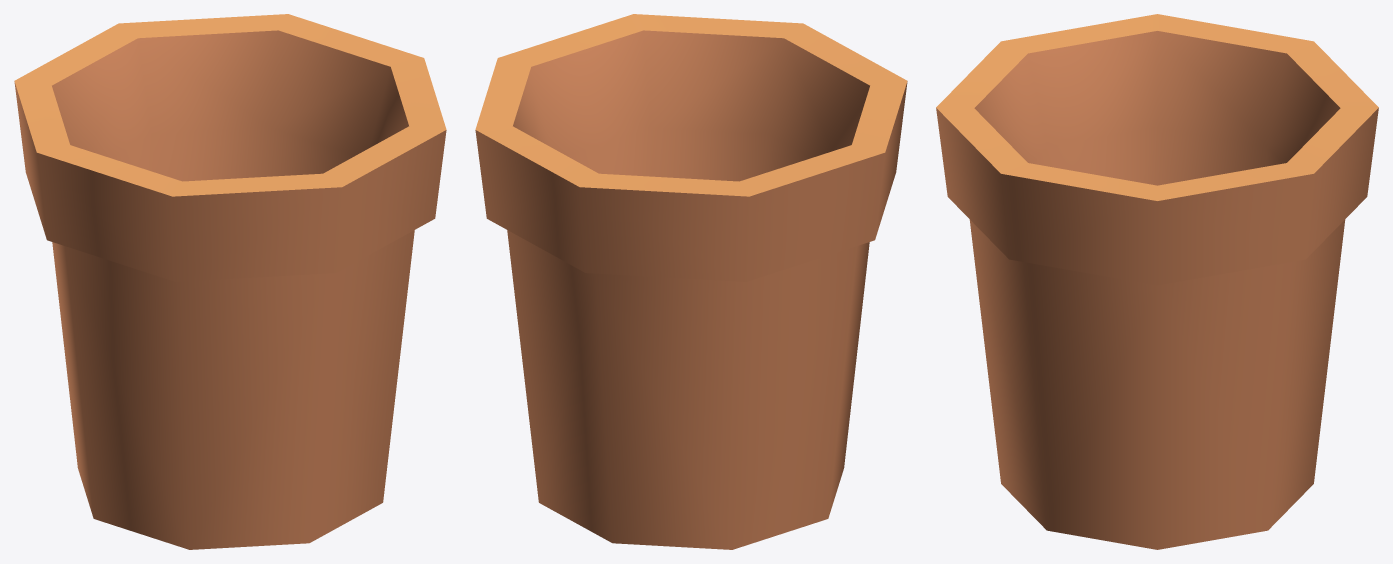
The model's file is SM_Prop_Pot_01.obj.
The picture shows the model from 3 angles, left to right: view 1: azimuth 30°, elevation 25°; view 2: azimuth 150°, elevation 25°; view 3: azimuth 270°, elevation 25°; orthographic projection.
Visible parts, largest first — view 1: SM_Prop_Pot_01_Mat_SwatchOverlay_PolygonTown_01_Inst; view 2: SM_Prop_Pot_01_Mat_SwatchOverlay_PolygonTown_01_Inst; view 3: SM_Prop_Pot_01_Mat_SwatchOverlay_PolygonTown_01_Inst.
Part boxes in pixels (bbox=[...]): SM_Prop_Pot_01_Mat_SwatchOverlay_PolygonTown_01_Inst: bbox=[14, 14, 446, 549]; SM_Prop_Pot_01_Mat_SwatchOverlay_PolygonTown_01_Inst: bbox=[475, 14, 907, 549]; SM_Prop_Pot_01_Mat_SwatchOverlay_PolygonTown_01_Inst: bbox=[936, 14, 1378, 549].
Bounding box in the file's own units: 0.289 × 0.271 × 0.289.
1 material, 1 textured.
